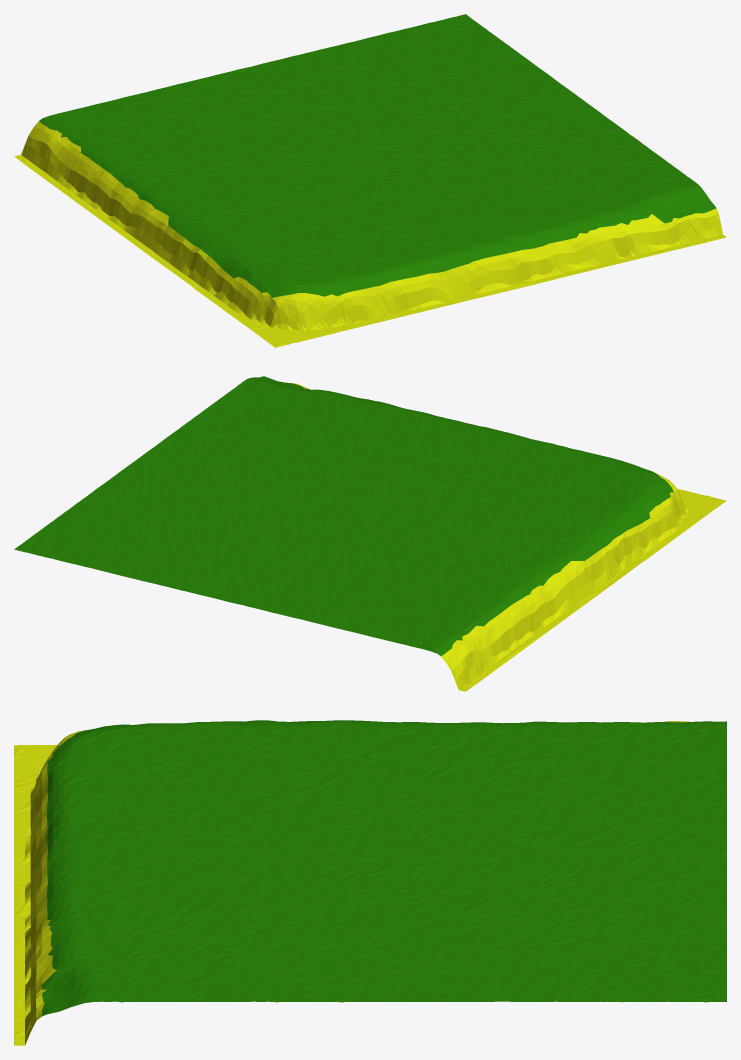
3 renders of one model, top to bottom at view 1: azimuth 30°, elevation 25°; view 2: azimuth 150°, elevation 25°; view 3: azimuth 270°, elevation 25°, orthographic. The views are drawn at different scales.
Visible parts, largest first — view 1: TerrainVeryHigh.002; view 2: TerrainVeryHigh.002; view 3: TerrainVeryHigh.002.
Boxes of the visible parts, x1,y1,x2,y2 form: TerrainVeryHigh.002: (14, 14, 726, 347); TerrainVeryHigh.002: (14, 376, 726, 691); TerrainVeryHigh.002: (14, 720, 726, 1045).
Size of the model in its own units: 1247 by 1249 by 86.51.
